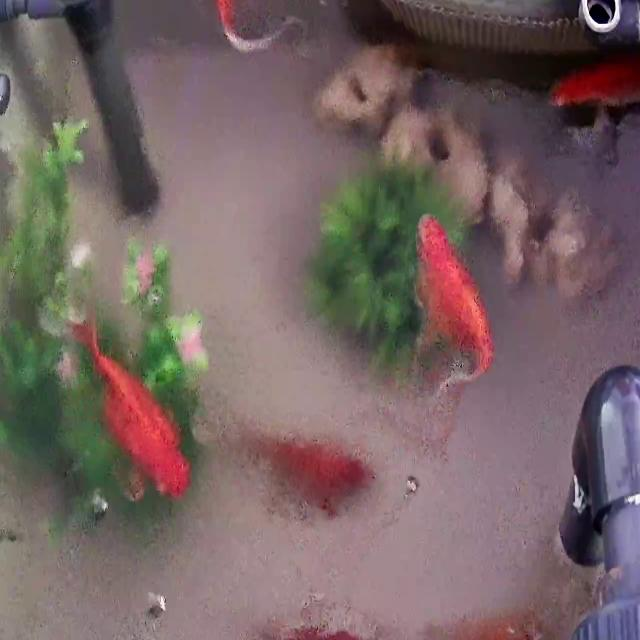fish: (69, 314, 195, 499), (412, 215, 492, 388), (239, 425, 364, 513), (548, 60, 640, 140), (194, 0, 306, 58), (439, 612, 541, 640), (266, 621, 382, 640)
